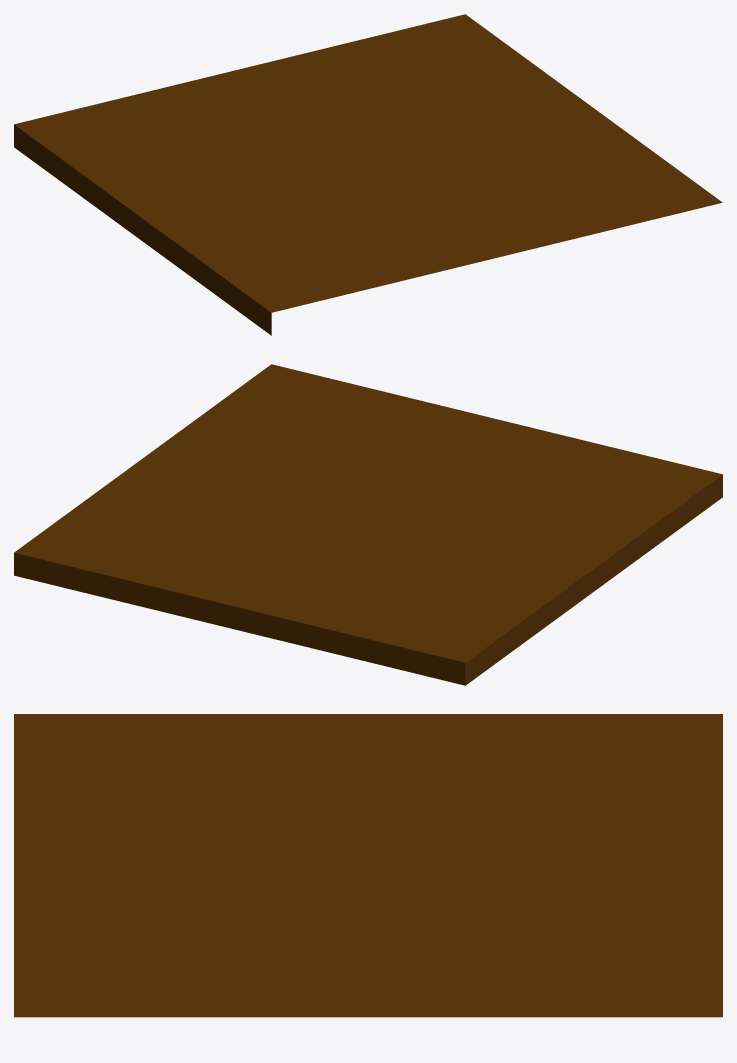
Rendered from case20.gltf.
The picture shows the model from 3 angles, top to bottom: view 1: azimuth 30°, elevation 25°; view 2: azimuth 150°, elevation 25°; view 3: azimuth 270°, elevation 25°; orthographic projection. The views are drawn at different scales.
Parts seen in each view (by area): view 1: a2; view 2: a2; view 3: a2.
Boxes of the visible parts, box(x1,y1,x2,y2) form: a2: box(14, 14, 722, 335); a2: box(14, 364, 722, 685); a2: box(14, 714, 722, 1017).
Size of the model in its own units: 0.5143 by 0.025 by 0.5081.
Materials: 1 (1 with a texture image).
